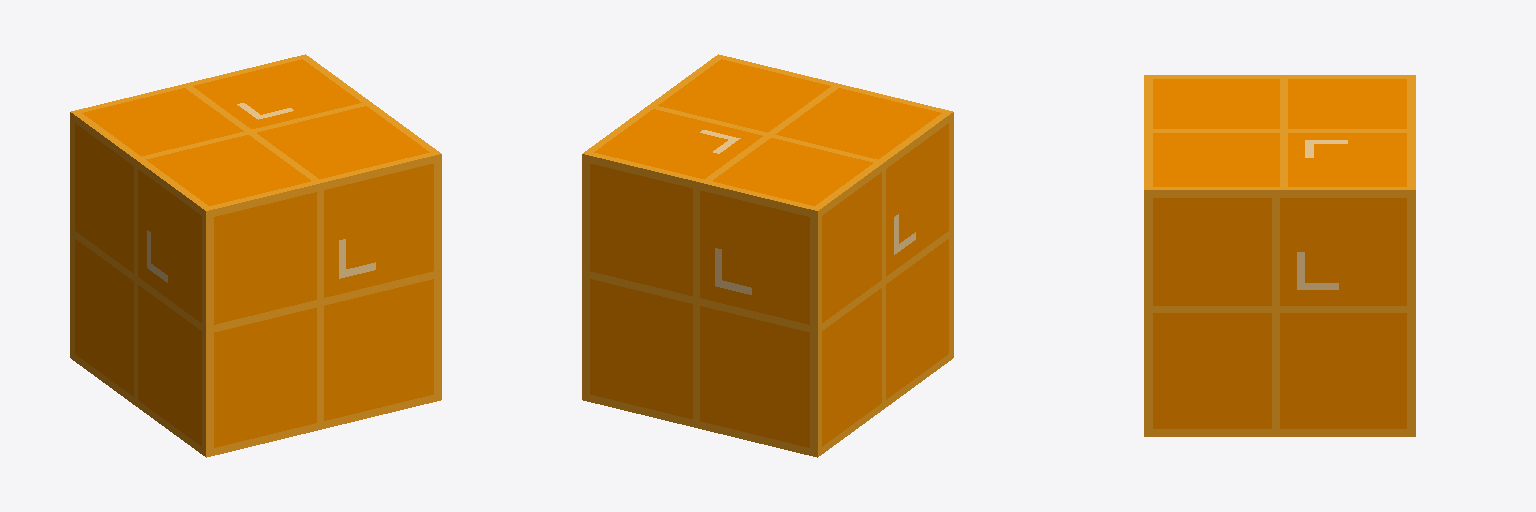
The picture shows the model from 3 angles: view 1: azimuth 30°, elevation 25°; view 2: azimuth 150°, elevation 25°; view 3: azimuth 270°, elevation 25°; orthographic projection.
Visible parts, largest first — view 1: cube; view 2: cube; view 3: cube.
Boxes of the visible parts, x1=… form: cube: x1=70, y1=54, x2=441, y2=457; cube: x1=582, y1=54, x2=953, y2=457; cube: x1=1144, y1=75, x2=1415, y2=436.
Size of the model in its own units: 1 by 1 by 1.
1 materials, 1 textured.